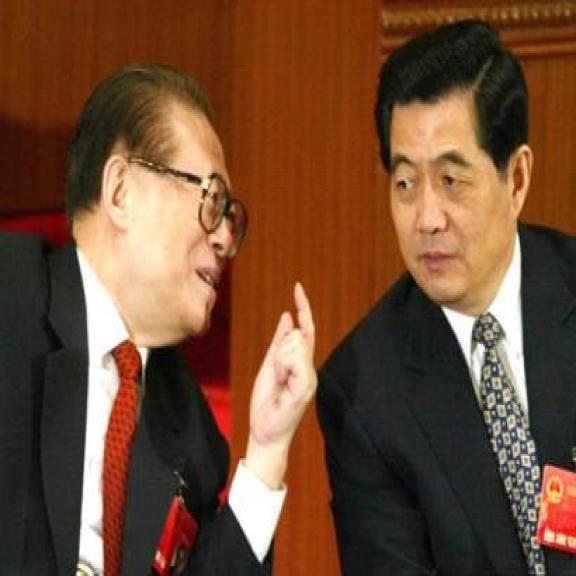face: (100, 100, 244, 349), (386, 96, 544, 302)
